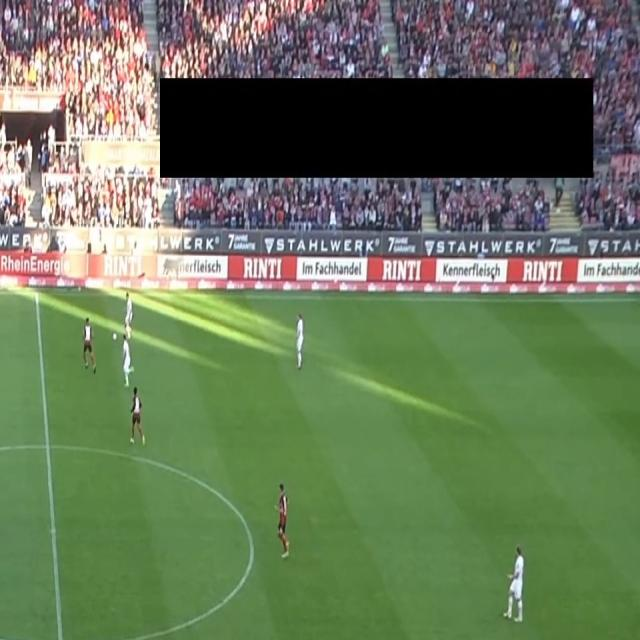ball: (112, 332, 118, 341)
